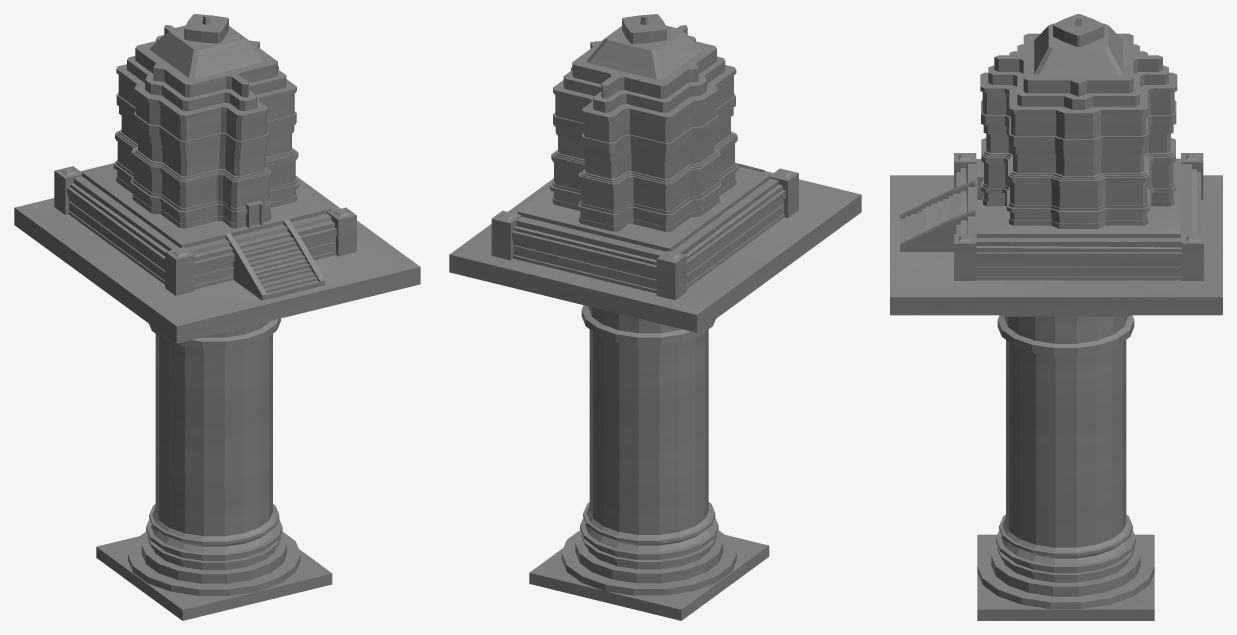
The model's file is classic statue.fbx.
3 views of the same model, side by side, from view 1: azimuth 30°, elevation 25°; view 2: azimuth 150°, elevation 25°; view 3: azimuth 270°, elevation 25° (orthographic). The views are drawn at different scales.
Visible parts, largest first — view 1: classic statue; view 2: classic statue; view 3: classic statue.
Part boxes in pixels (x1,y1,x2,y2): classic statue: [14, 14, 420, 620]; classic statue: [449, 14, 861, 620]; classic statue: [890, 14, 1222, 620].
Bounding box in the file's own units: 98.04 × 212 × 113.
Materials: 1 (1 with a texture image).
